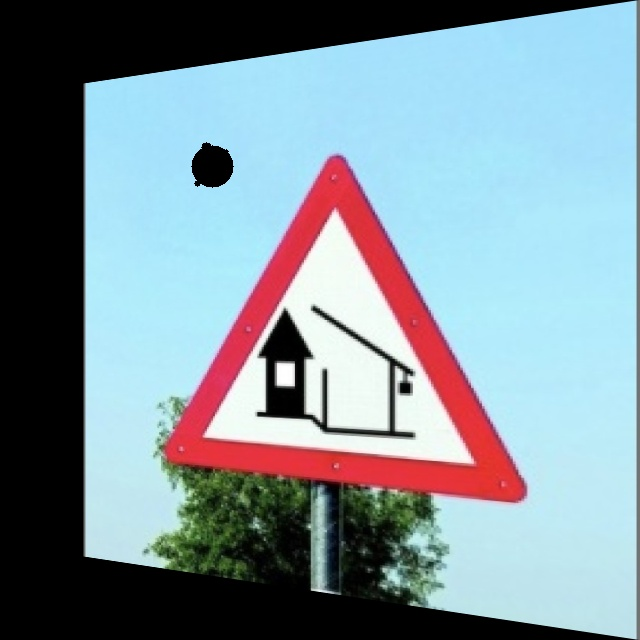Barrier_Ahead: (178, 140, 512, 508)
